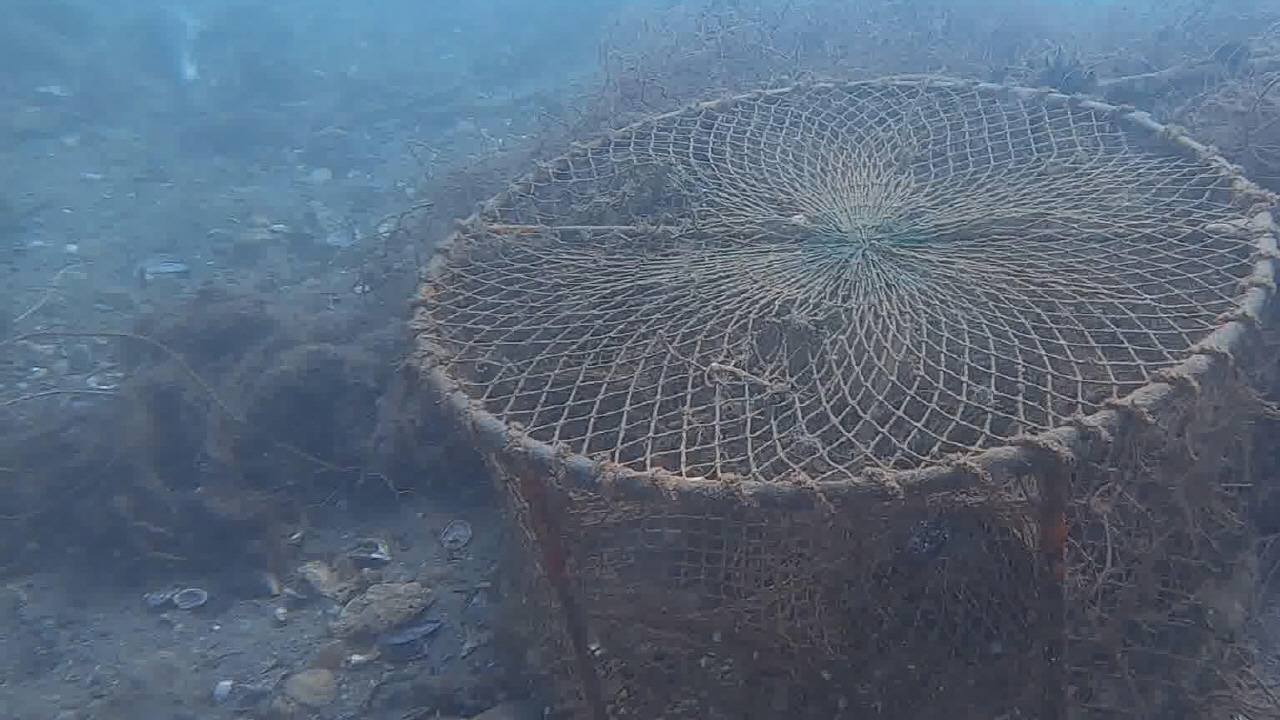circular fish trap: (407, 68, 1280, 720)
